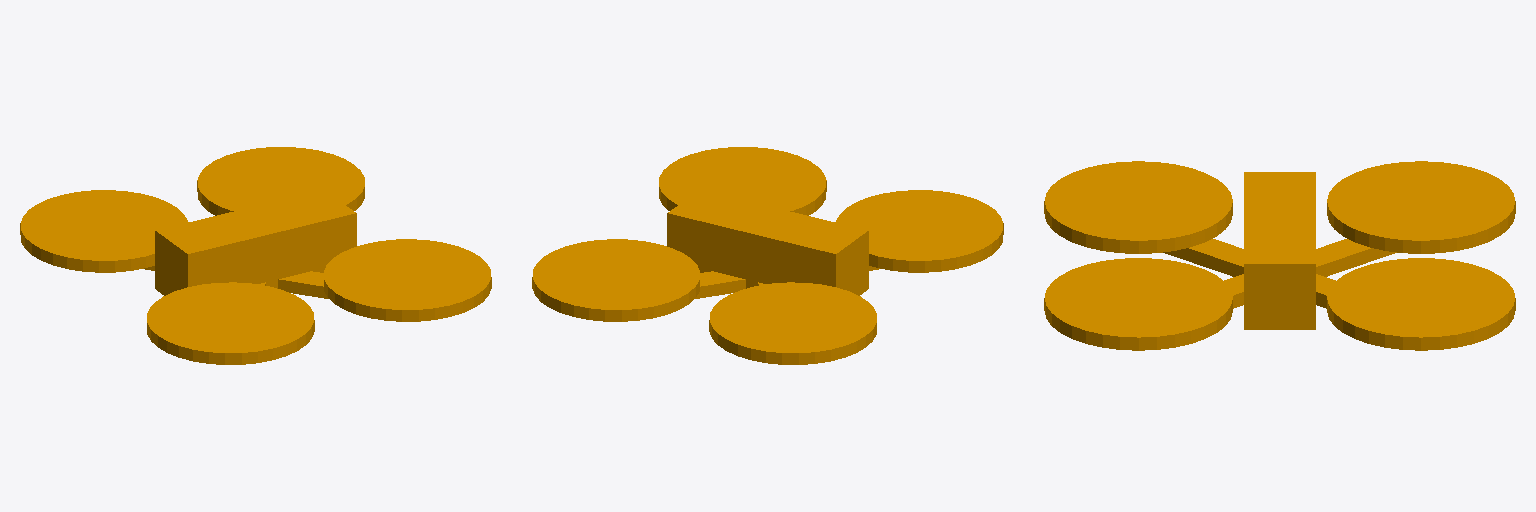
The robot description file, URDF, robot "drone_quadcopter":
<?xml version='1.0' encoding='UTF-8'?>
<robot name="drone_quadcopter">
  <link name="base">
    <inertial>
      <origin xyz="0.0 0.0 0.0" rpy="0.0 -0.0 0.0"/>
      <mass value="0.76"/>
      <inertia ixx="0.0025" ixy="0.0" ixz="0.0" iyy="0.0021" iyz="0.0" izz="0.0043"/>
    </inertial>
    <visual>
      <geometry>
        <box size="0.15 0.05 0.05"/>
      </geometry>
      <origin xyz="0.0 0.0 0.015" rpy="0.0 0.0 0.0"/>
    </visual>
    <visual>
      <geometry>
        <box size="0.25  0.023 0.01 "/>
      </geometry>
      <origin xyz="0.0 0.0 -0.005" rpy="0.0 0.0 0.890118"/>
    </visual>
    <visual>
      <geometry>
        <box size="0.25  0.023 0.01 "/>
      </geometry>
      <origin xyz="0.0 -0.0 -0.005" rpy="0.0 0.0 -0.890118"/>
    </visual>
    <visual>
      <geometry>
        <cylinder radius="0.0115" length="0.016"/>
      </geometry>
      <origin xyz="-0.07866504096571687 -0.09714325159197672 -0.002" rpy="0.0 0.0 0.0"/>
    </visual>
    <visual>
      <geometry>
        <cylinder radius="0.06477" length="0.01"/>
      </geometry>
      <origin xyz="-0.07866504096571687 -0.09714325159197672 0.011" rpy="0.0 0.0 0.0"/>
    </visual>
    <visual>
      <geometry>
        <cylinder radius="0.0115" length="0.016"/>
      </geometry>
      <origin xyz="0.07866504096571687 -0.0971432515919767 -0.002" rpy="0.0 0.0 0.0"/>
    </visual>
    <visual>
      <geometry>
        <cylinder radius="0.06477" length="0.01"/>
      </geometry>
      <origin xyz="0.07866504096571687 -0.0971432515919767 0.011" rpy="0.0 0.0 0.0"/>
    </visual>
    <visual>
      <geometry>
        <cylinder radius="0.0115" length="0.016"/>
      </geometry>
      <origin xyz="-0.07866504096571685 0.09714325159197673 -0.002" rpy="0.0 0.0 0.0"/>
    </visual>
    <visual>
      <geometry>
        <cylinder radius="0.06477" length="0.01"/>
      </geometry>
      <origin xyz="-0.07866504096571685 0.09714325159197673 0.011" rpy="0.0 0.0 0.0"/>
    </visual>
    <visual>
      <geometry>
        <cylinder radius="0.0115" length="0.016"/>
      </geometry>
      <origin xyz="0.07866504096571687 0.0971432515919767 -0.002" rpy="0.0 0.0 0.0"/>
    </visual>
    <visual>
      <geometry>
        <cylinder radius="0.06477" length="0.01"/>
      </geometry>
      <origin xyz="0.07866504096571687 0.0971432515919767 0.011" rpy="0.0 0.0 0.0"/>
    </visual>
    <collision>
      <geometry>
        <box size="0.28687008 0.3238265  0.05      "/>
      </geometry>
      <origin xyz="0.0 0.0 0.015" rpy="0.0 0.0 0.0"/>
    </collision>
  </link>
</robot>

--- Render facts (derived) ---
Views: 3 orthographic renders of the robot side by side, from view 1: azimuth 30°, elevation 25°; view 2: azimuth 150°, elevation 25°; view 3: azimuth 270°, elevation 25°.
Model drone_quadcopter with 1 links and 0 joints (none), rooted at base, posed all joints at 0.
Links seen in each view (by area): view 1: base; view 2: base; view 3: base.
Boxes of the visible links, <box> form: base: <box>20,147,491,364</box>; base: <box>532,147,1003,364</box>; base: <box>1044,161,1515,350</box>.
Bounding box of the posed robot: 0.2869 × 0.3238 × 0.05 m (x, y, z).
Geometry: primitives only (box / cylinder / sphere), no mesh files.